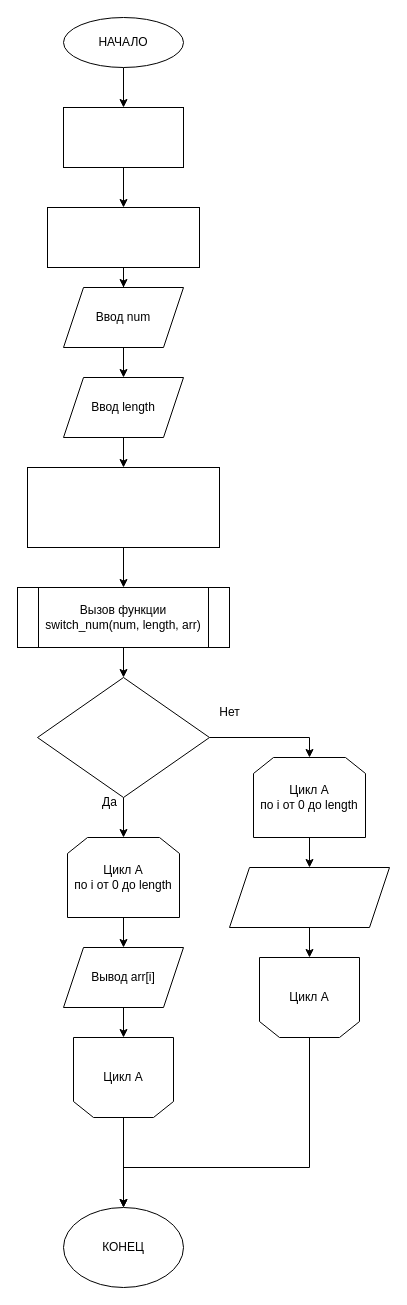
Some shapes in this 407 by 1305 pixel diagram are drawn without their labels. The centre of each missing label's shape, as x and y in pixels:
"length меньше 150 или length больше 200" goes at point (123, 737).
"Запись arr[i] в файл filename" goes at point (309, 897).
"Объявление переменных num, min, max, interval и length" goes at point (123, 237).
"Открытие файла с именем filename" goes at point (123, 137).
"Создание динамического массива arr длиной length" goes at point (123, 507).
